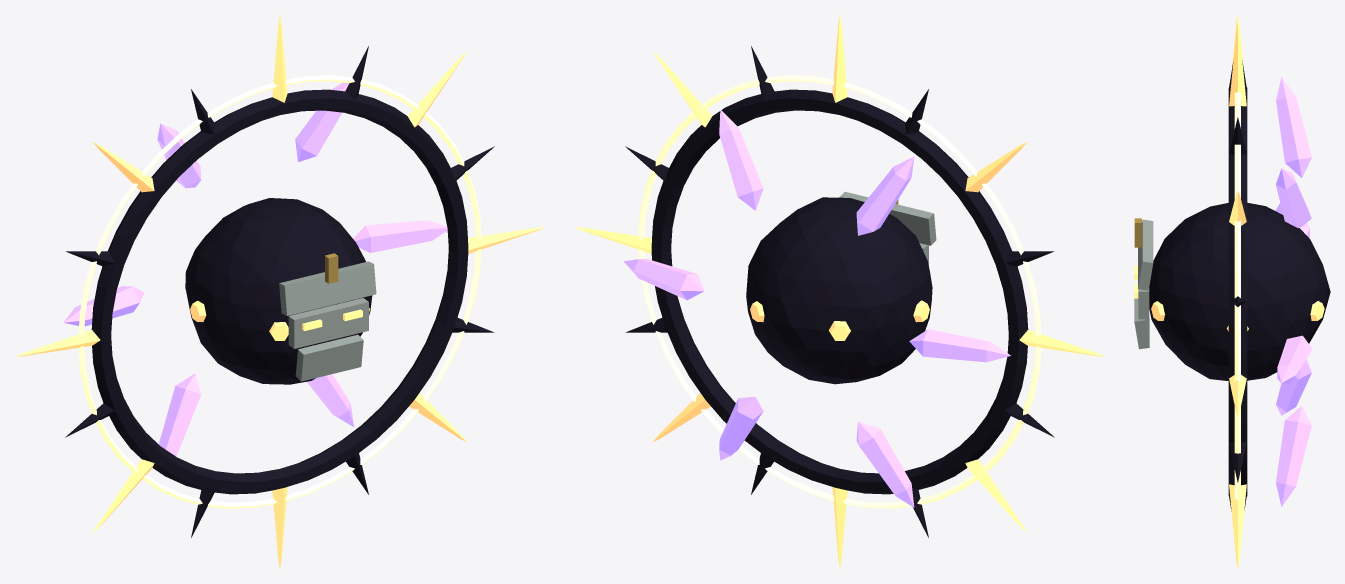
File: heraldo.glb
3 renders of one model, left to right at view 1: azimuth 30°, elevation 25°; view 2: azimuth 150°, elevation 25°; view 3: azimuth 270°, elevation 25°, orthographic. The views are drawn at different scales.
Visible parts, largest first — view 1: HeraldoCorona, HeraldoCore, HeraldoMask, HeraldoShard_0, HeraldoShard_4, HeraldoShard_1, HeraldoShard_5, HeraldoShard_3, HeraldoShard_2; view 2: HeraldoCorona, HeraldoCore, HeraldoShard_1, HeraldoShard_3, HeraldoShard_4, HeraldoShard_2, HeraldoShard_0, HeraldoShard_5, HeraldoMask; view 3: HeraldoCore, HeraldoCorona, HeraldoMask, HeraldoShard_5, HeraldoShard_2, HeraldoShard_1, HeraldoShard_0, HeraldoShard_4.
Part boxes in pixels (bbox=[...]): HeraldoCorona: bbox=[15, 15, 544, 568]; HeraldoCore: bbox=[185, 198, 372, 384]; HeraldoMask: bbox=[279, 253, 376, 381]; HeraldoShard_0: bbox=[353, 220, 447, 252]; HeraldoShard_4: bbox=[158, 373, 201, 474]; HeraldoShard_1: bbox=[295, 82, 348, 162]; HeraldoShard_5: bbox=[307, 374, 354, 426]; HeraldoShard_3: bbox=[63, 286, 143, 326]; HeraldoShard_2: bbox=[157, 123, 201, 188]; HeraldoCorona: bbox=[575, 15, 1104, 568]; HeraldoCore: bbox=[746, 197, 932, 384]; HeraldoShard_1: bbox=[719, 109, 763, 210]; HeraldoShard_3: bbox=[909, 329, 1010, 362]; HeraldoShard_4: bbox=[856, 421, 914, 507]; HeraldoShard_2: bbox=[856, 156, 914, 235]; HeraldoShard_0: bbox=[623, 259, 703, 300]; HeraldoShard_5: bbox=[719, 396, 763, 460]; HeraldoMask: bbox=[839, 191, 936, 265]; HeraldoCore: bbox=[1149, 202, 1330, 380]; HeraldoCorona: bbox=[1228, 15, 1247, 568]; HeraldoMask: bbox=[1134, 218, 1153, 349]; HeraldoShard_5: bbox=[1276, 406, 1311, 506]; HeraldoShard_2: bbox=[1276, 77, 1311, 177]; HeraldoShard_1: bbox=[1276, 168, 1311, 227]; HeraldoShard_0: bbox=[1277, 335, 1312, 383]; HeraldoShard_4: bbox=[1276, 359, 1311, 415].
Bounding box in the file's own units: 6.54 × 6.54 × 2.17.
